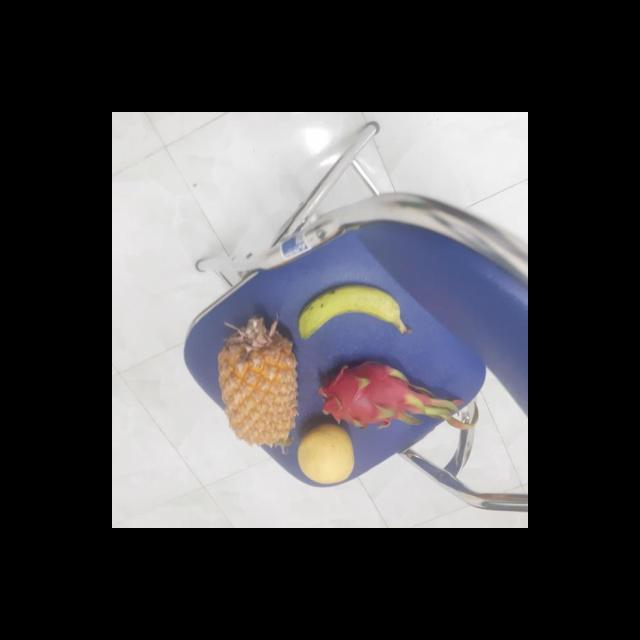Sakya fruit: (220, 316, 300, 448)
banana: (302, 286, 408, 346)
pear: (296, 424, 358, 484)
pitaya: (322, 360, 432, 429)
